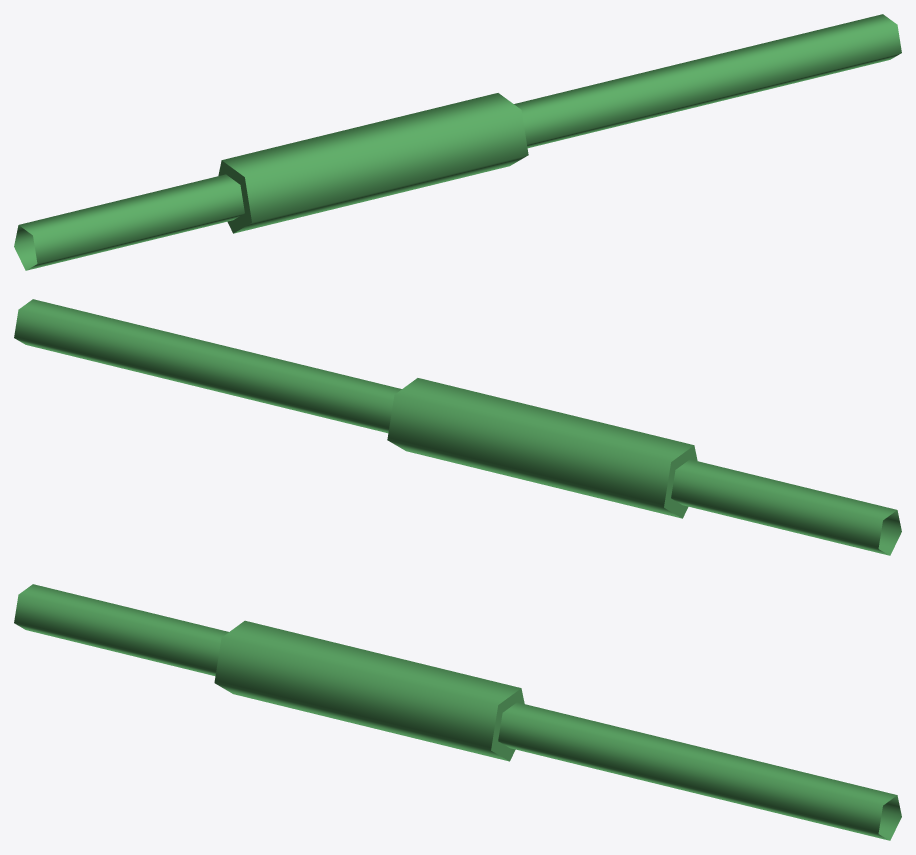
Rendered from SPipeC_1.fbx.
3 renders of one model, top to bottom at view 1: azimuth 30°, elevation 25°; view 2: azimuth 150°, elevation 25°; view 3: azimuth 330°, elevation 25°, orthographic.
Parts seen in each view (by area): view 1: SPipeC_1; view 2: SPipeC_1; view 3: SPipeC_1.
Part boxes in pixels (x1,y1,x2,y2): SPipeC_1: (14,14,901,270); SPipeC_1: (14,299,901,555); SPipeC_1: (14,584,901,840).
Size of the model in its own units: 220 by 15.81 by 16.6.
